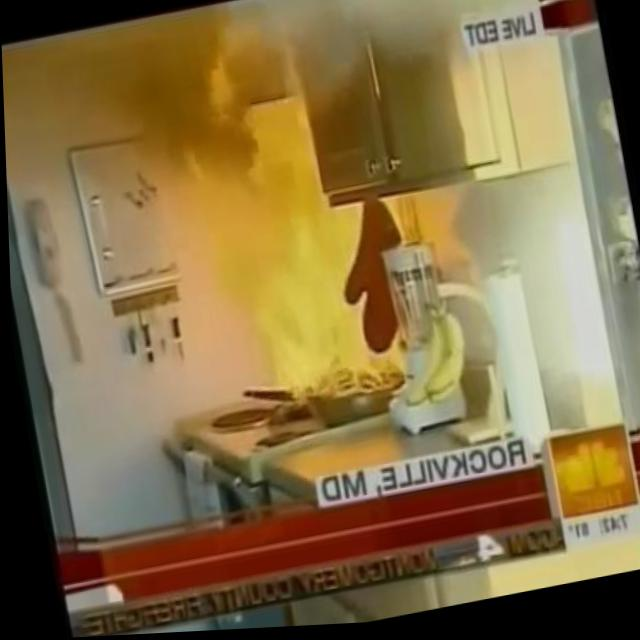fire: (162, 0, 461, 419)
